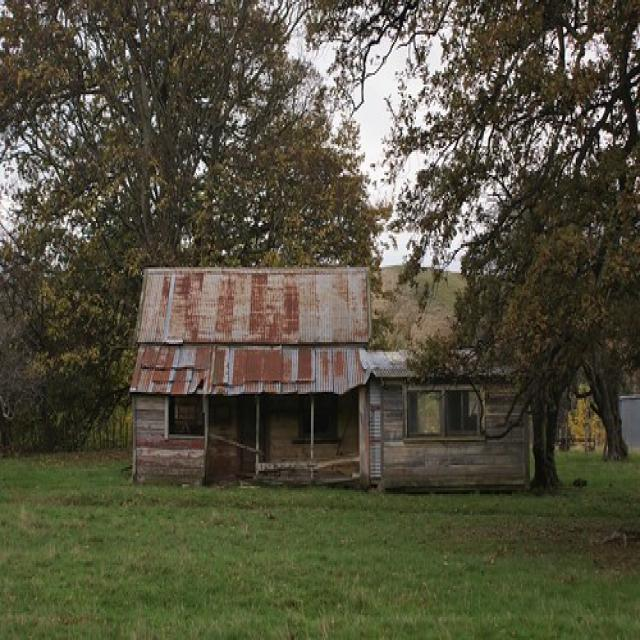building: (128, 262, 536, 495)
